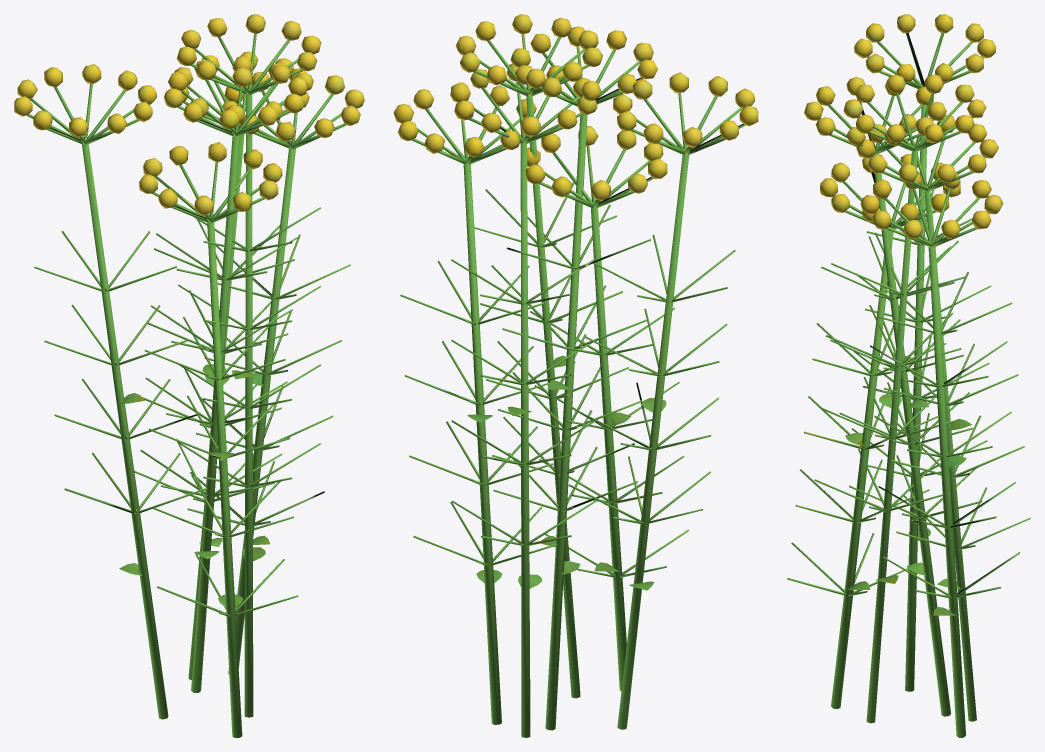
Rendered from crop_dill.glb.
3 renders of one model, left to right at view 1: azimuth 30°, elevation 25°; view 2: azimuth 150°, elevation 25°; view 3: azimuth 270°, elevation 25°, orthographic. The views are drawn at different scales.
Visible parts, largest first — view 1: crop_dill, fruit; view 2: crop_dill, fruit; view 3: crop_dill, fruit.
Boxes of the visible parts, <box> form: crop_dill: <box>27,33,350,737</box>; fruit: <box>14,14,364,215</box>; crop_dill: <box>400,34,745,737</box>; fruit: <box>393,14,758,200</box>; crop_dill: <box>787,32,1030,737</box>; fruit: <box>804,14,1003,238</box>.
Bounding box in the file's own units: 0.2289 × 0.4296 × 0.1498.
1 material, 1 textured.
